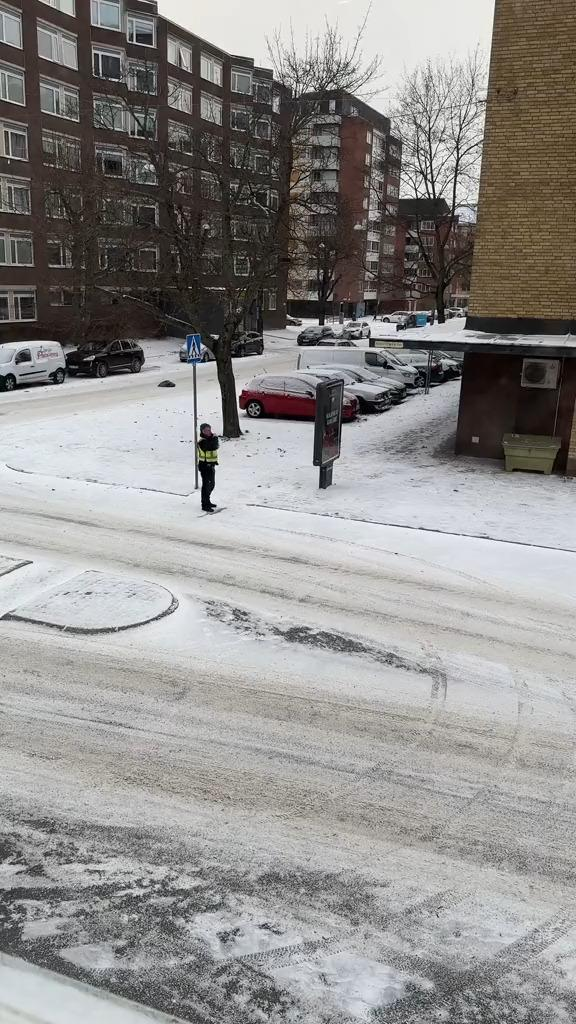parking-attendant: (197, 424, 218, 511)
